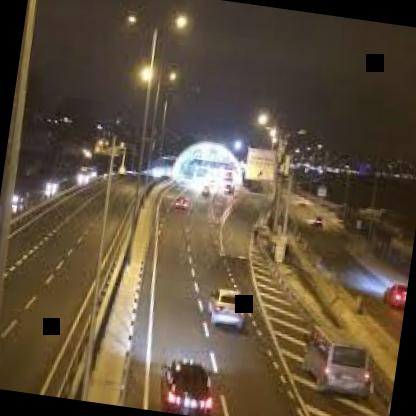car: (286, 307, 389, 410), (147, 341, 228, 416), (194, 279, 252, 337), (370, 271, 408, 318)
